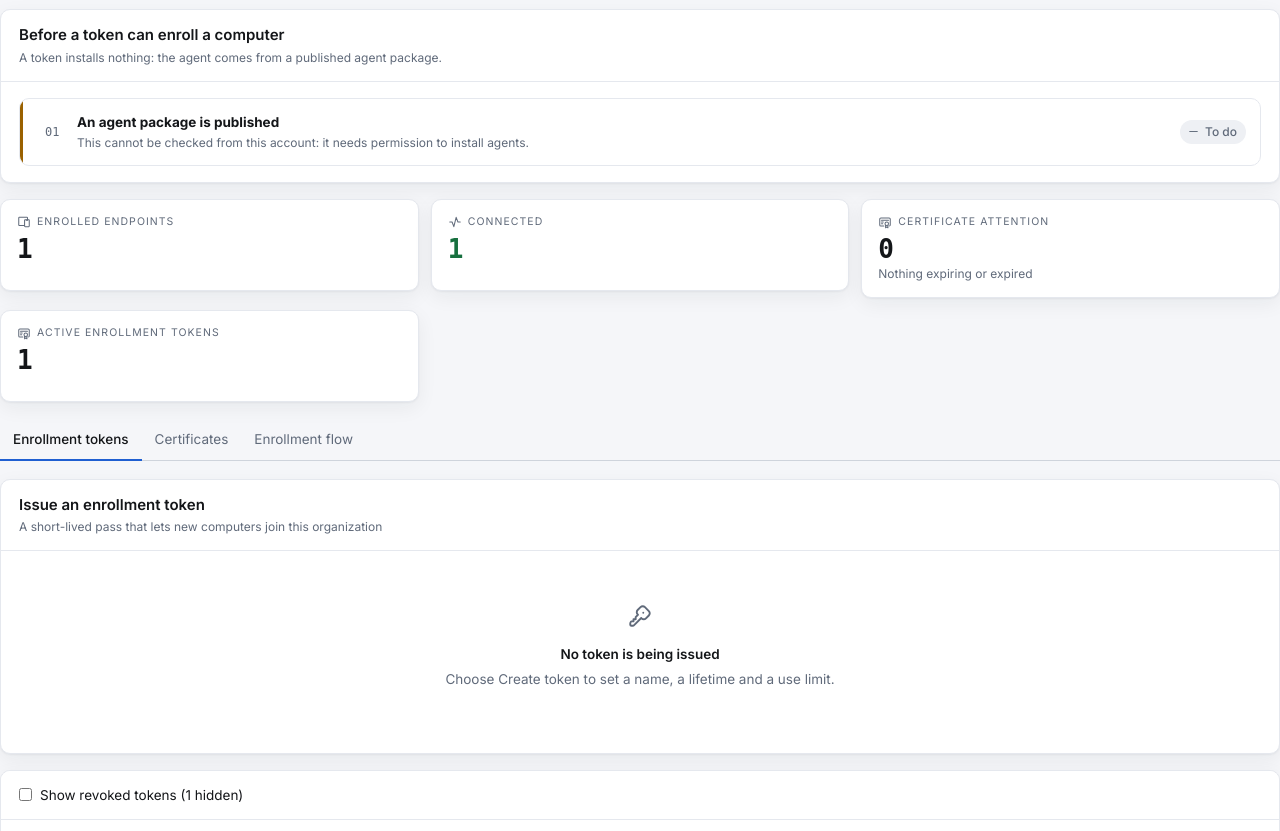
Test: EnrollmentPage › derives token state from the row rather than from a status field
Click the checkbox labelled "Show revoked tokens (1 hidden)".
click(26, 795)  # box [19, 788, 32, 802]
(page scrolled)
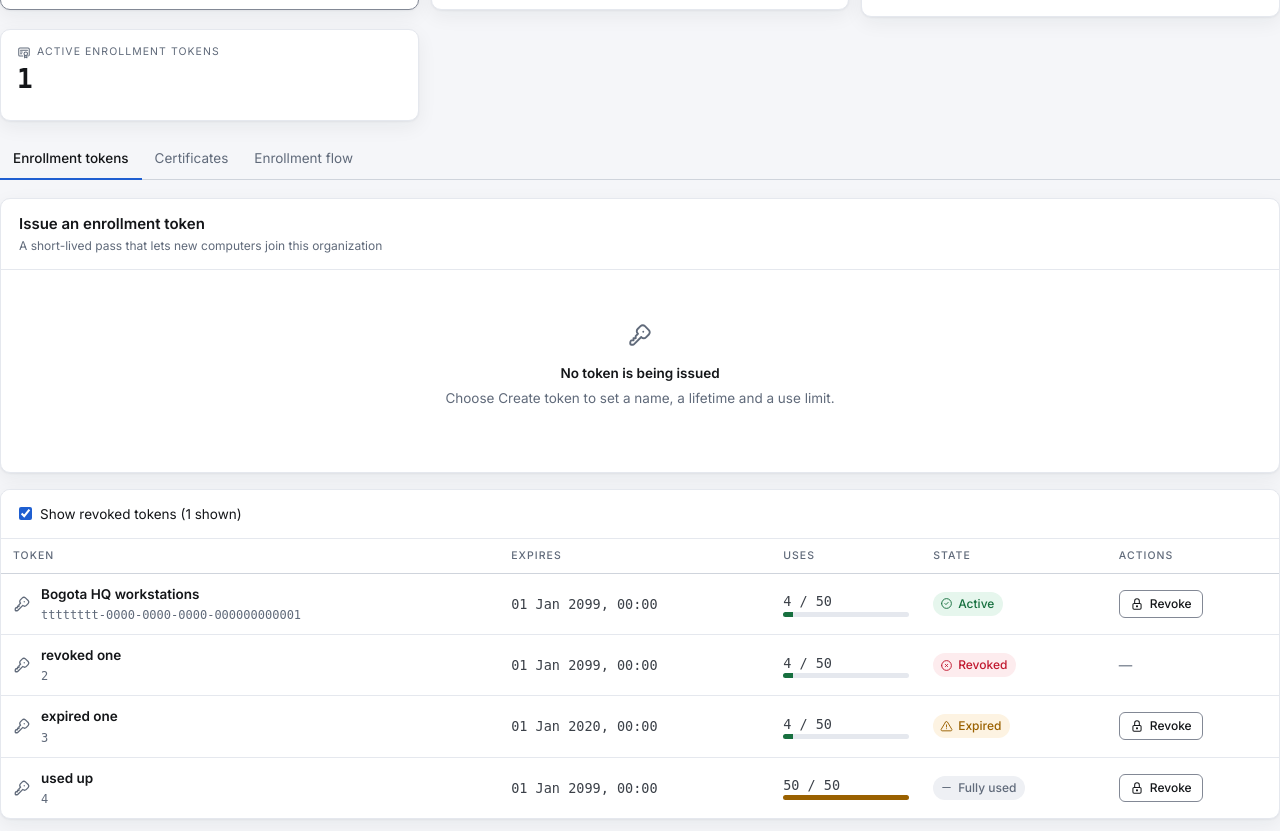
expect the text "Revoked" is shown: met, box [933, 653, 1016, 677]
